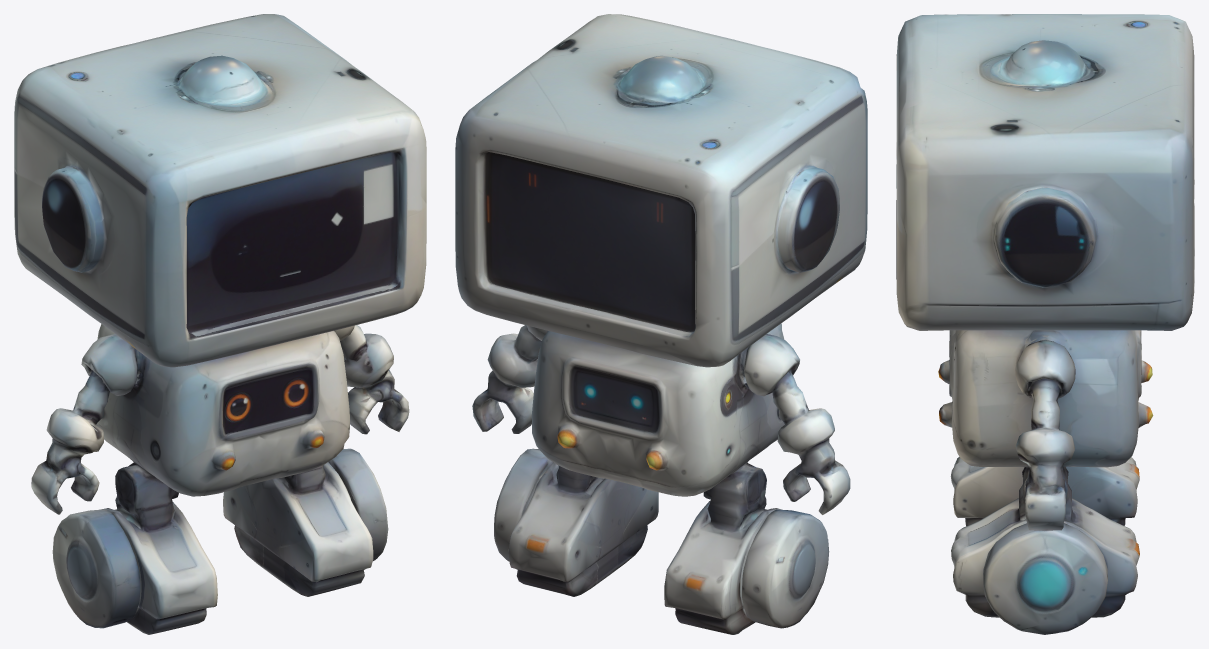
The model's file is Robot_computer.glb.
3 renders of one model, left to right at view 1: azimuth 30°, elevation 25°; view 2: azimuth 150°, elevation 25°; view 3: azimuth 270°, elevation 25°, orthographic.
Visible parts, largest first — view 1: head, body; view 2: head, body; view 3: head, body.
Boxes of the visible parts, <box> form: head: <box>14,14,426,367</box>; body: <box>31,324,409,634</box>; head: <box>455,14,867,367</box>; body: <box>472,323,850,634</box>; head: <box>896,14,1194,330</box>; body: <box>938,330,1153,634</box>.
Bounding box in the file's own units: 1.42 × 2 × 1.03.
Materials: 1 (1 with a texture image).
